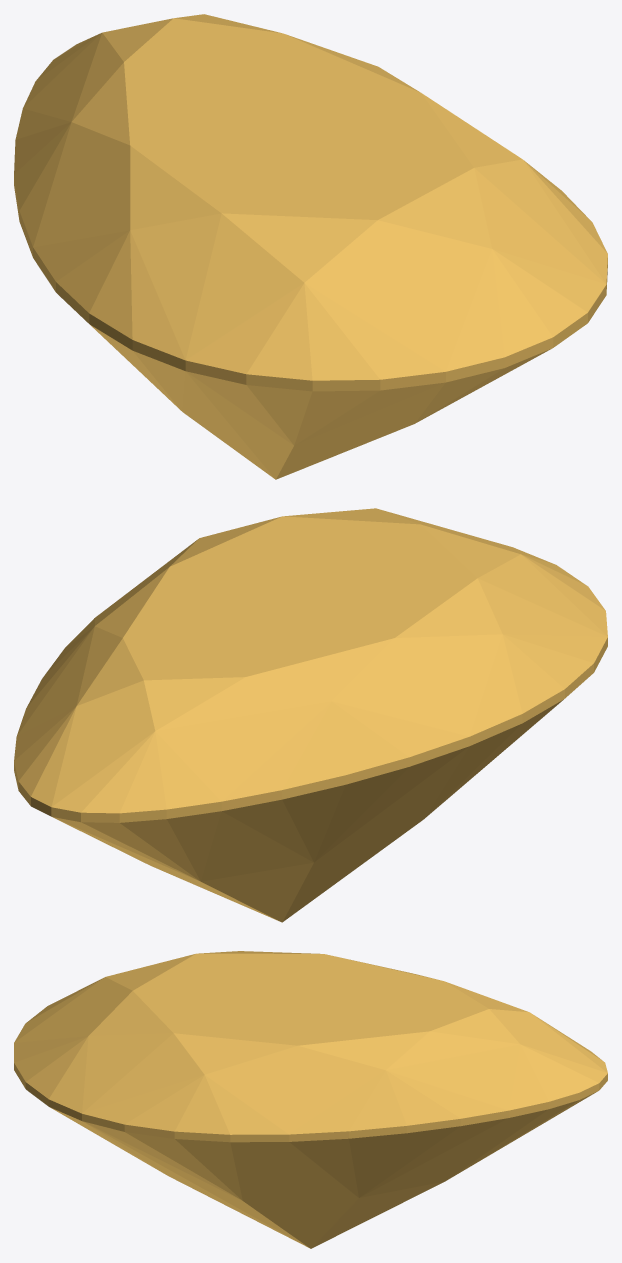
Rendered from stone-citrine.glb.
3 views of the same model, one above another, from view 1: azimuth 30°, elevation 25°; view 2: azimuth 150°, elevation 25°; view 3: azimuth 270°, elevation 25° (orthographic). The views are drawn at different scales.
Parts seen in each view (by area): view 1: Gemstone Citrine; view 2: Gemstone Citrine; view 3: Gemstone Citrine.
Boxes of the visible parts, bbox=[...] form: Gemstone Citrine: bbox=[14, 14, 607, 479]; Gemstone Citrine: bbox=[14, 508, 607, 922]; Gemstone Citrine: bbox=[14, 951, 607, 1248].
Size of the model in its own units: 1.64 by 1.18 by 2.54.
